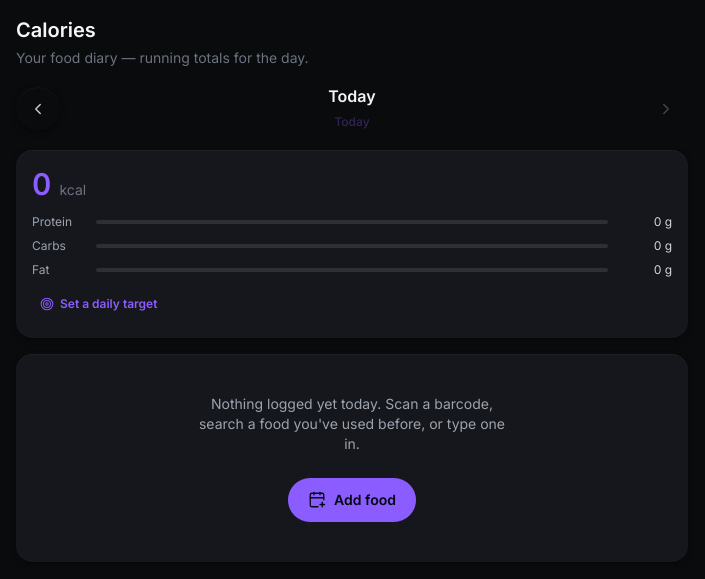
Test: CaloriesPanel › the back button leaves the add-flow for the diary
Click the button with test id "diary-empty-add" at (352,500), box x1=288 y1=478 x2=416 y2=522
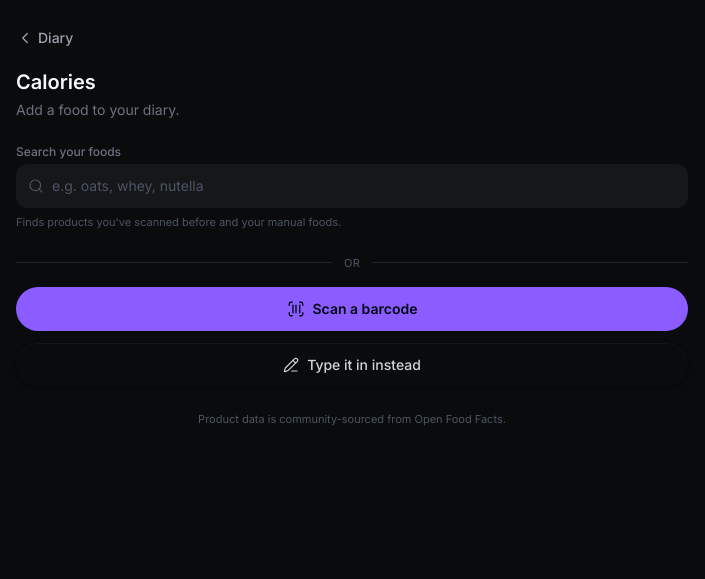
Click the button with test id "add-back-btn" at (51,38), box x1=16 y1=16 x2=85 y2=60
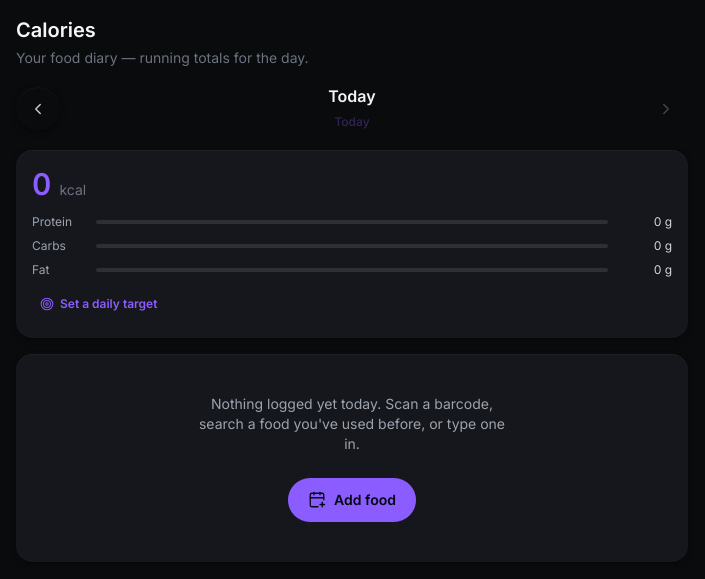
Result: the element with test id "day-nav" is shown at x1=16 y1=84 x2=688 y2=134
